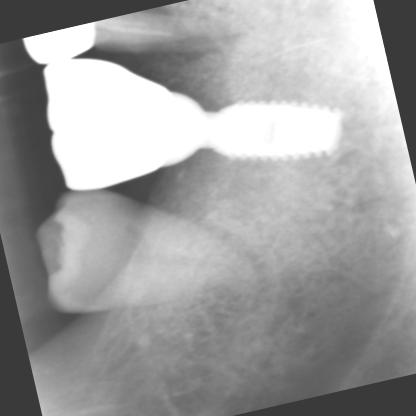Bicon: (192, 73, 364, 184)
